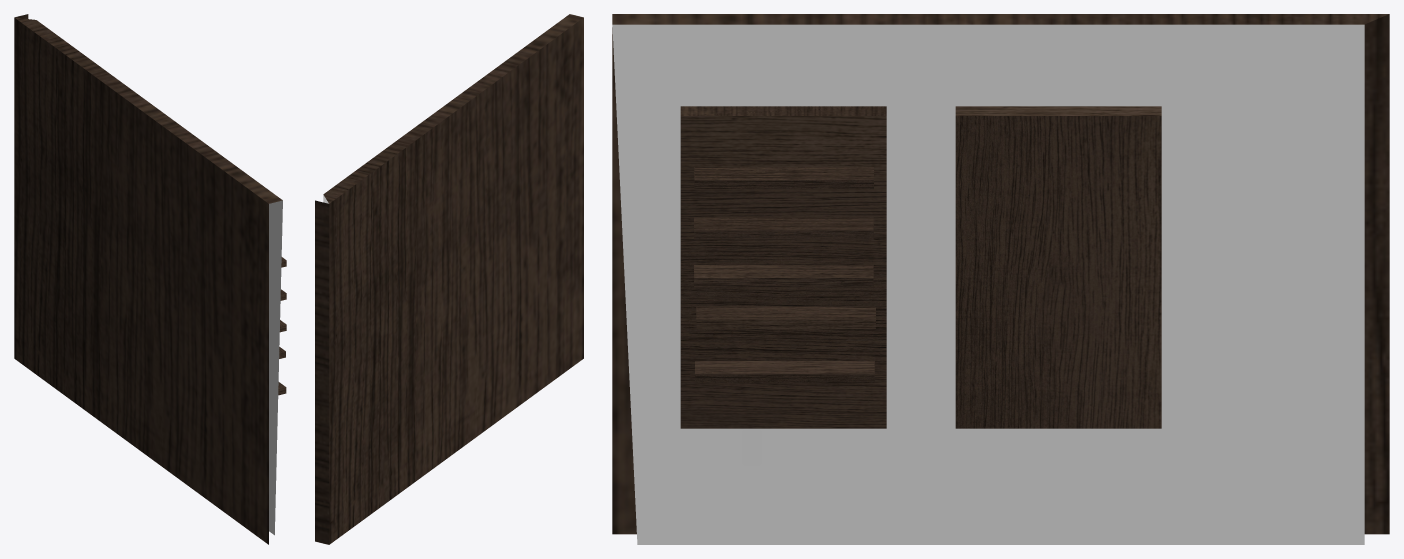
Rendered from ParedDerS3.obj.
3 renders of one model, left to right at view 1: azimuth 30°, elevation 25°; view 2: azimuth 150°, elevation 25°; view 3: azimuth 270°, elevation 25°, orthographic. The views are drawn at different scales.
Visible parts, largest first — view 1: ParedDerS3; view 2: ParedDerS3; view 3: ParedDerS3.
Part boxes in pixels (x1=…): ParedDerS3: x1=14, y1=14, x2=286, y2=544; ParedDerS3: x1=315, y1=14, x2=583, y2=544; ParedDerS3: x1=612, y1=14, x2=1389, y2=544.
Size of the model in its own units: 1.56 by 11.38 by 15.4.
5 materials, 5 textured.
